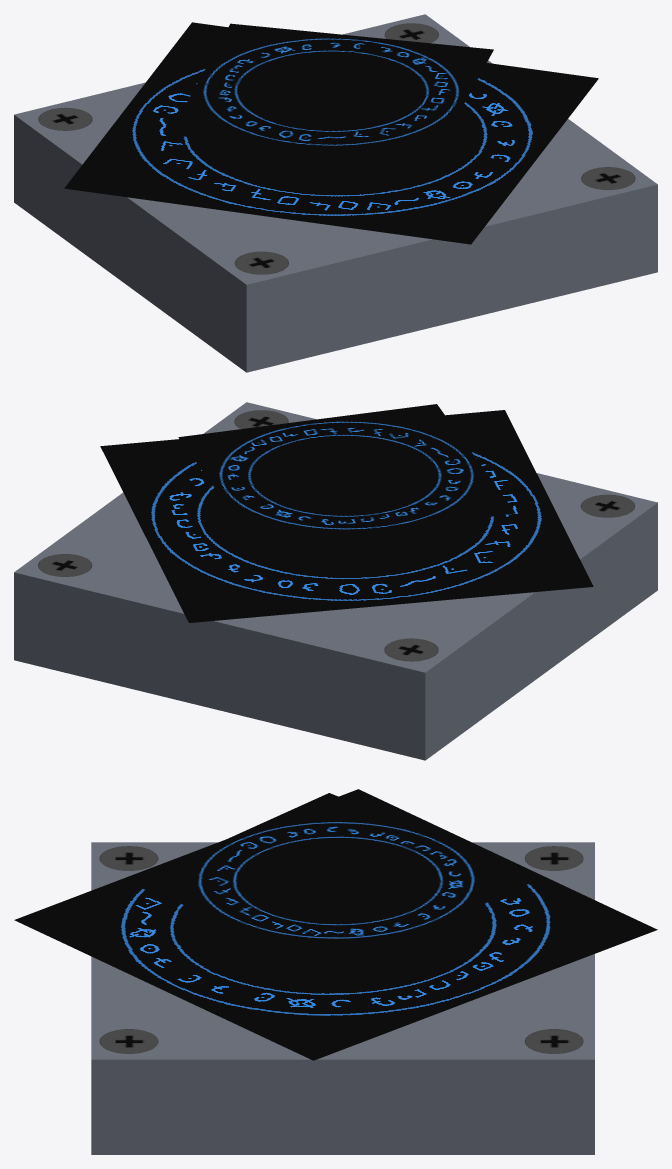
Rendered from Teleporter.fbx.
The picture shows the model from 3 angles, top to bottom: view 1: azimuth 30°, elevation 25°; view 2: azimuth 150°, elevation 25°; view 3: azimuth 270°, elevation 25°; orthographic projection. The views are drawn at different scales.
Visible parts, largest first — view 1: Cube, Circle, Circle.001, Screw.003, Screw.001, Screw.002, Screw; view 2: Cube, Circle, Circle.001, Screw.002, Screw.003, Screw, Screw.001; view 3: Cube, Circle, Circle.001, Screw, Screw.002, Screw.001, Screw.003.
Boxes of the visible parts, x1=… form: Cube: x1=14, y1=14, x2=657, y2=372; Circle: x1=64, y1=22, x2=598, y2=244; Circle.001: x1=169, y1=23, x2=493, y2=160; Screw.003: x1=234, y1=251, x2=288, y2=274; Screw.001: x1=581, y1=167, x2=635, y2=189; Screw.002: x1=38, y1=107, x2=92, y2=130; Screw: x1=384, y1=23, x2=438, y2=43; Cube: x1=14, y1=402, x2=657, y2=760; Circle: x1=100, y1=410, x2=593, y2=622; Circle.001: x1=178, y1=404, x2=515, y2=546; Screw.002: x1=384, y1=638, x2=438, y2=661; Screw.003: x1=580, y1=494, x2=635, y2=517; Screw: x1=38, y1=554, x2=92, y2=576; Screw.001: x1=234, y1=410, x2=288, y2=428; Cube: x1=91, y1=842, x2=594, y2=1154; Circle: x1=14, y1=789, x2=657, y2=1060; Circle.001: x1=129, y1=793, x2=542, y2=967; Screw: x1=524, y1=1029, x2=583, y2=1053; Screw.002: x1=524, y1=846, x2=583, y2=870; Screw.001: x1=99, y1=1029, x2=158, y2=1053; Screw.003: x1=99, y1=846, x2=158, y2=870.
Size of the model in its own units: 841 by 233 by 842.
